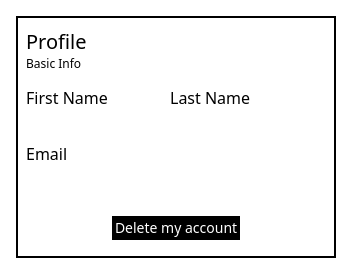
Scenario: Profile page › should render profile page
The width and height of the screenshot is (353, 275).
Click the button "Delete my account".
click(176, 228)  # box x1=112 y1=216 x2=240 y2=240
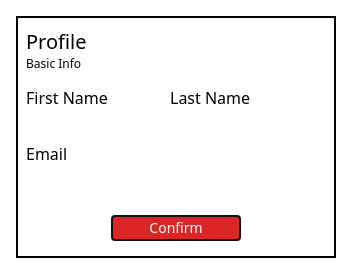
expect the button "Confirm" is shown: met, box x1=112 y1=216 x2=240 y2=240
